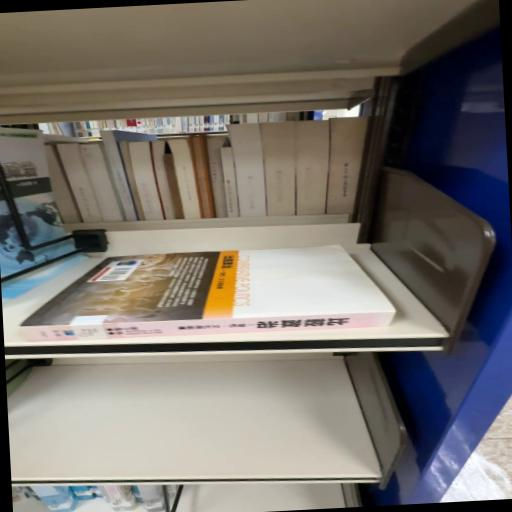flat: (21, 246, 397, 343)
